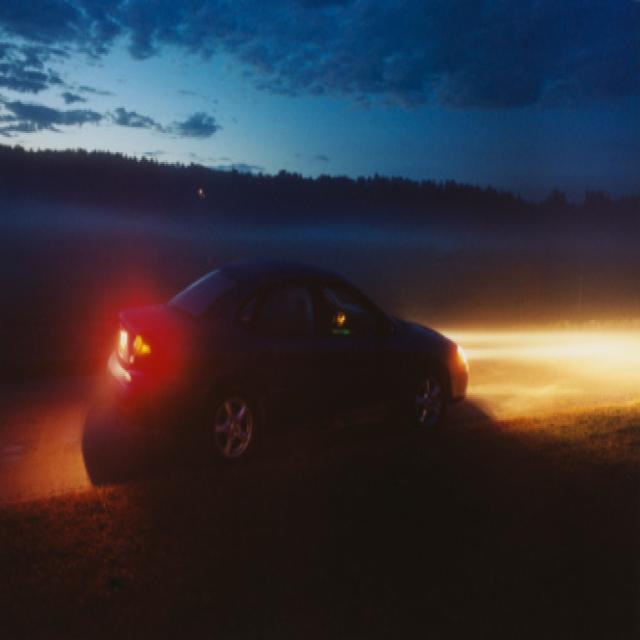Car: (49, 260, 506, 520)
